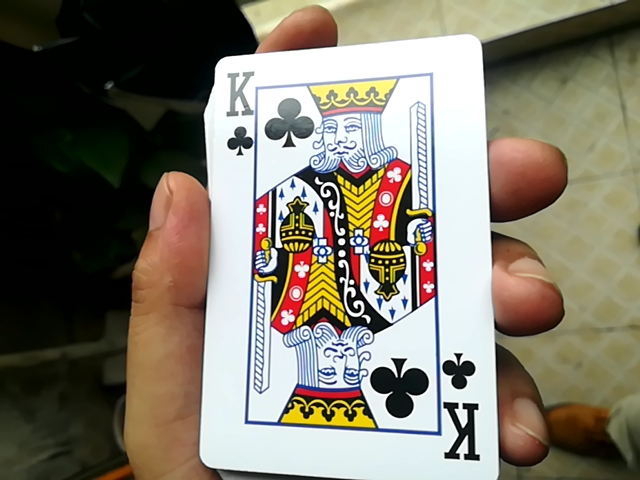mh k: (194, 29, 496, 475)
